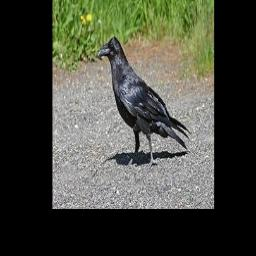Crow: (97, 35, 193, 172)
